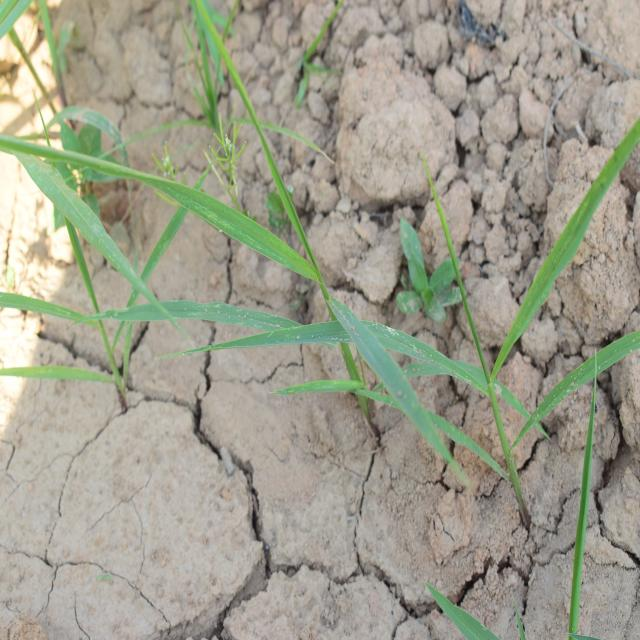green_foxtail: (394, 82, 624, 494), (185, 44, 399, 461), (11, 110, 170, 404)
